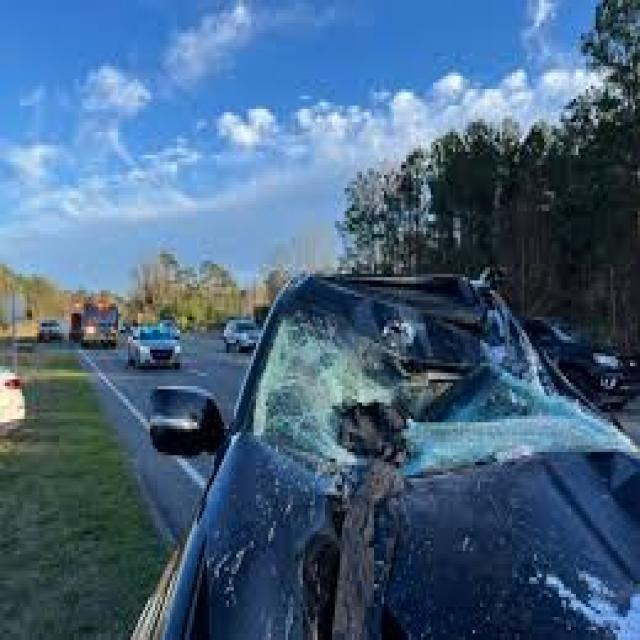damaged-window: (258, 310, 634, 470)
